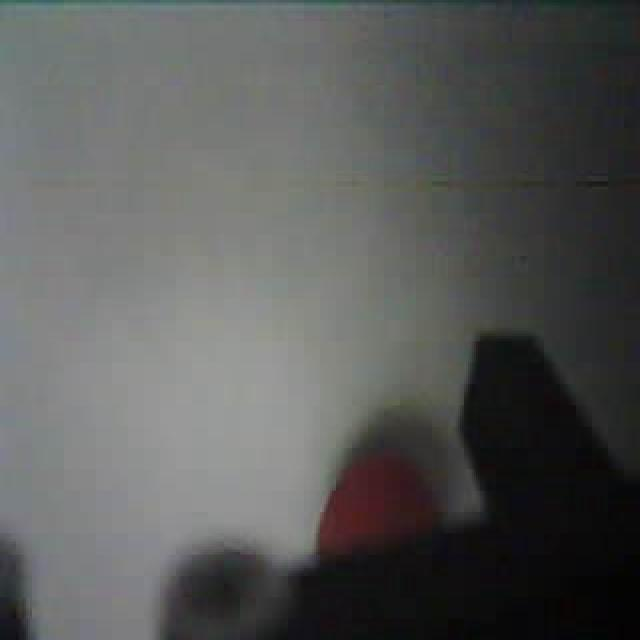red_ball: (312, 443, 442, 565)
